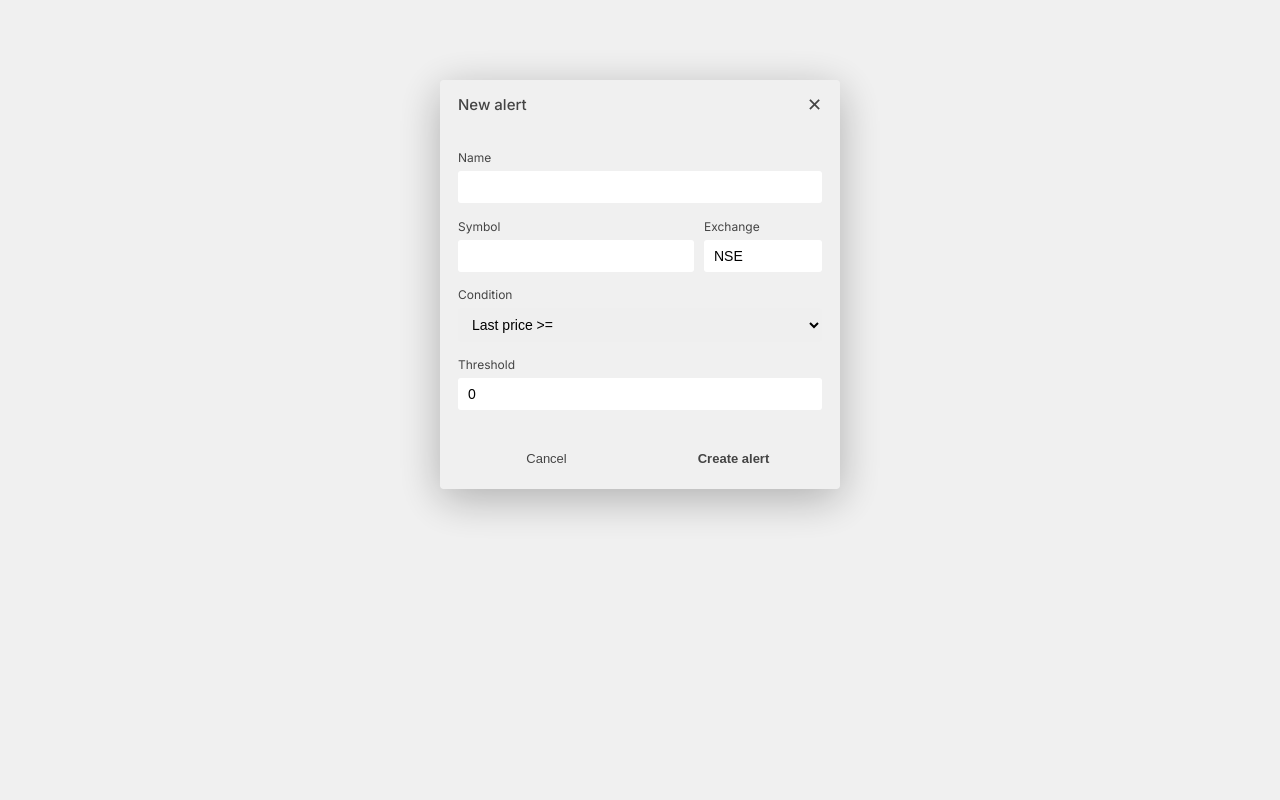
Test: CreateAlertModal › requires a name before submitting
What coordinates should you click on to do the following:
click the button "Create alert"
I would click on:
 (734, 458)
Its box is [645, 442, 822, 475].
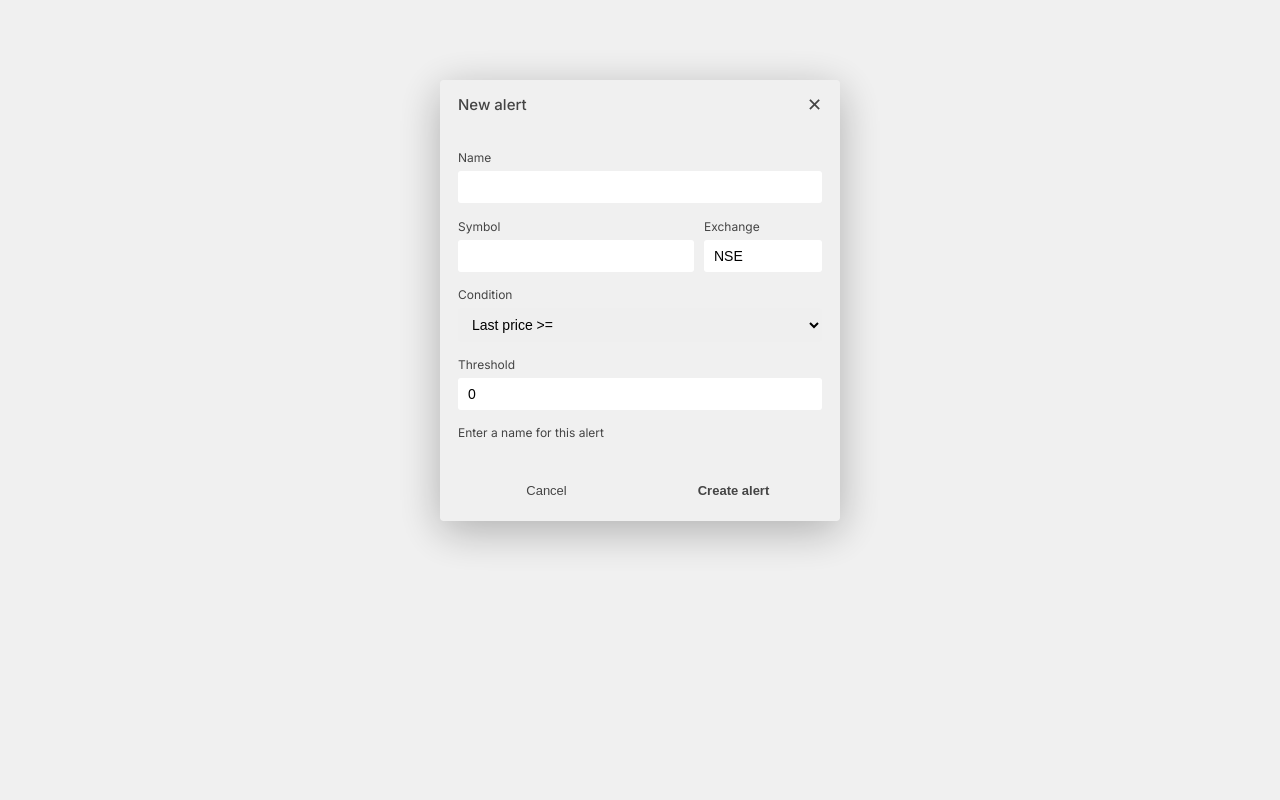
Expected: the text "Enter a name for this alert" is shown, [458, 425, 604, 440]
